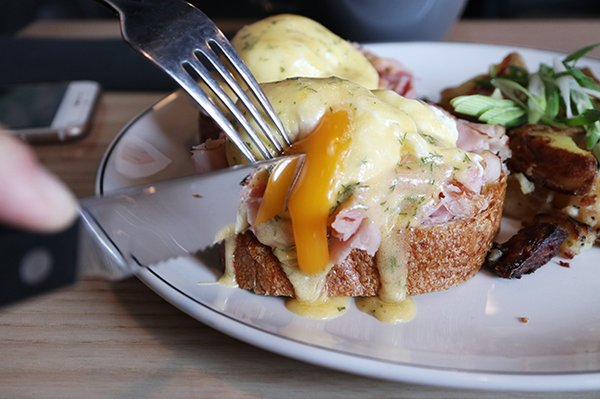burger: (99, 1, 292, 163)
soup: (212, 78, 509, 322)
